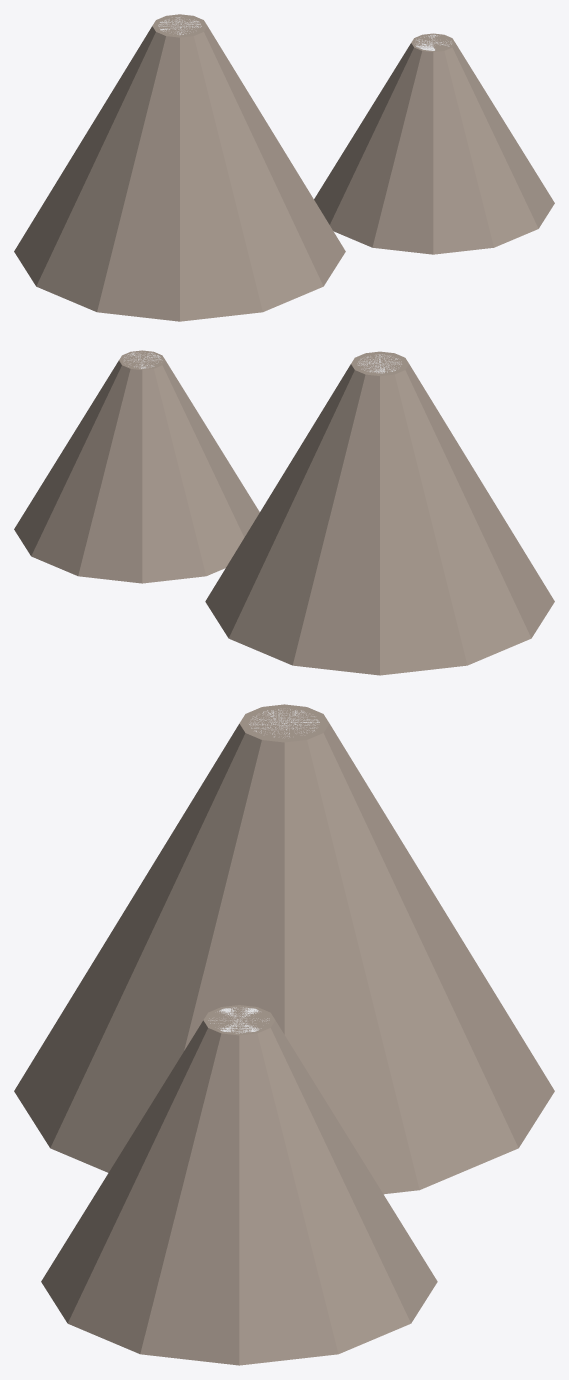
File: volcan.glb
The picture shows the model from 3 angles, top to bottom: view 1: azimuth 30°, elevation 25°; view 2: azimuth 150°, elevation 25°; view 3: azimuth 270°, elevation 25°; orthographic projection. The views are drawn at different scales.
Visible parts, largest first — view 1: volcan; view 2: volcan; view 3: volcan.
Boxes of the visible parts, <box> form: volcan: <box>14,14,554,321</box>; volcan: <box>14,350,554,675</box>; volcan: <box>14,704,554,1365</box>.
Bounding box in the file's own units: 1.02 × 0.45 × 0.6.
